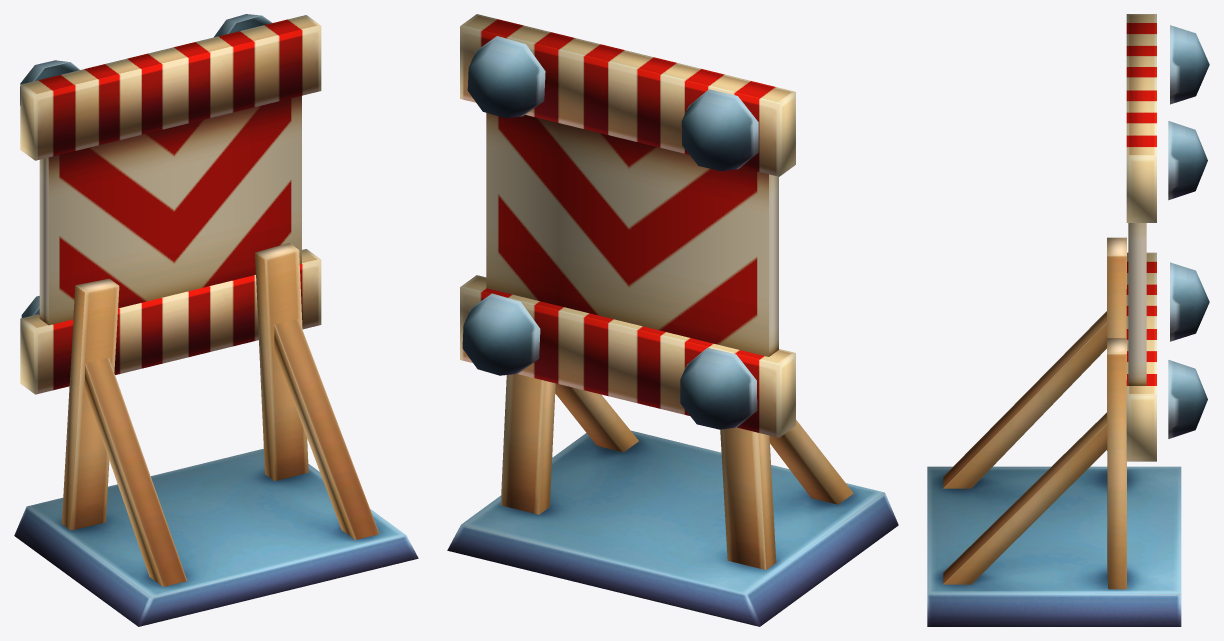
File: blocker_roll.fbx
The picture shows the model from 3 angles, left to right: view 1: azimuth 30°, elevation 25°; view 2: azimuth 150°, elevation 25°; view 3: azimuth 270°, elevation 25°; orthographic projection. The views are drawn at different scales.
Visible parts, largest first — view 1: blocker_roll_obj; view 2: blocker_roll_obj; view 3: blocker_roll_obj.
Part boxes in pixels (bbox=[...]): blocker_roll_obj: bbox=[14, 14, 418, 626]; blocker_roll_obj: bbox=[447, 14, 898, 626]; blocker_roll_obj: bbox=[927, 14, 1209, 626].
Size of the model in its own units: 1898 by 2953 by 1591.
1 material, 1 textured.
